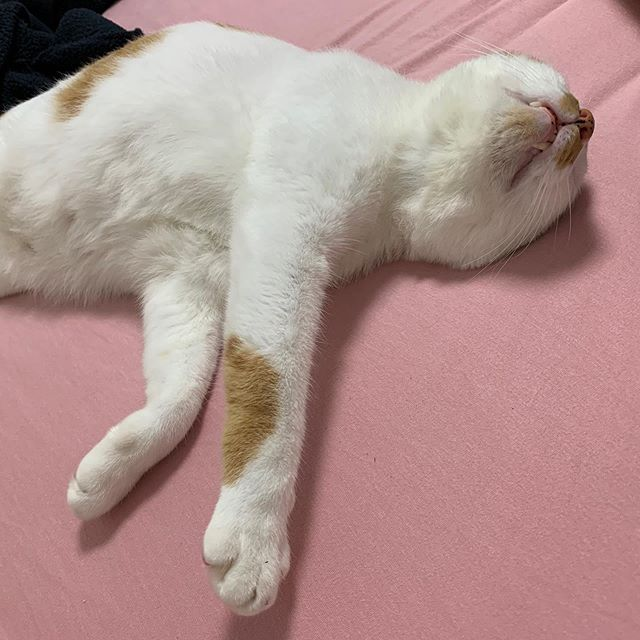cat: (398, 42, 622, 266)
